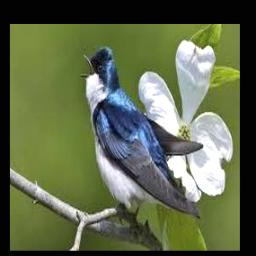Swallow: (80, 46, 203, 223)
